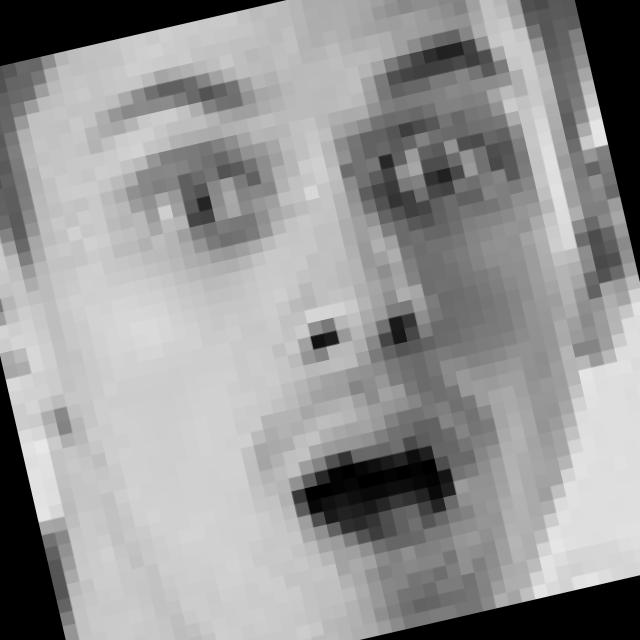surprise: (77, 0, 614, 591)
